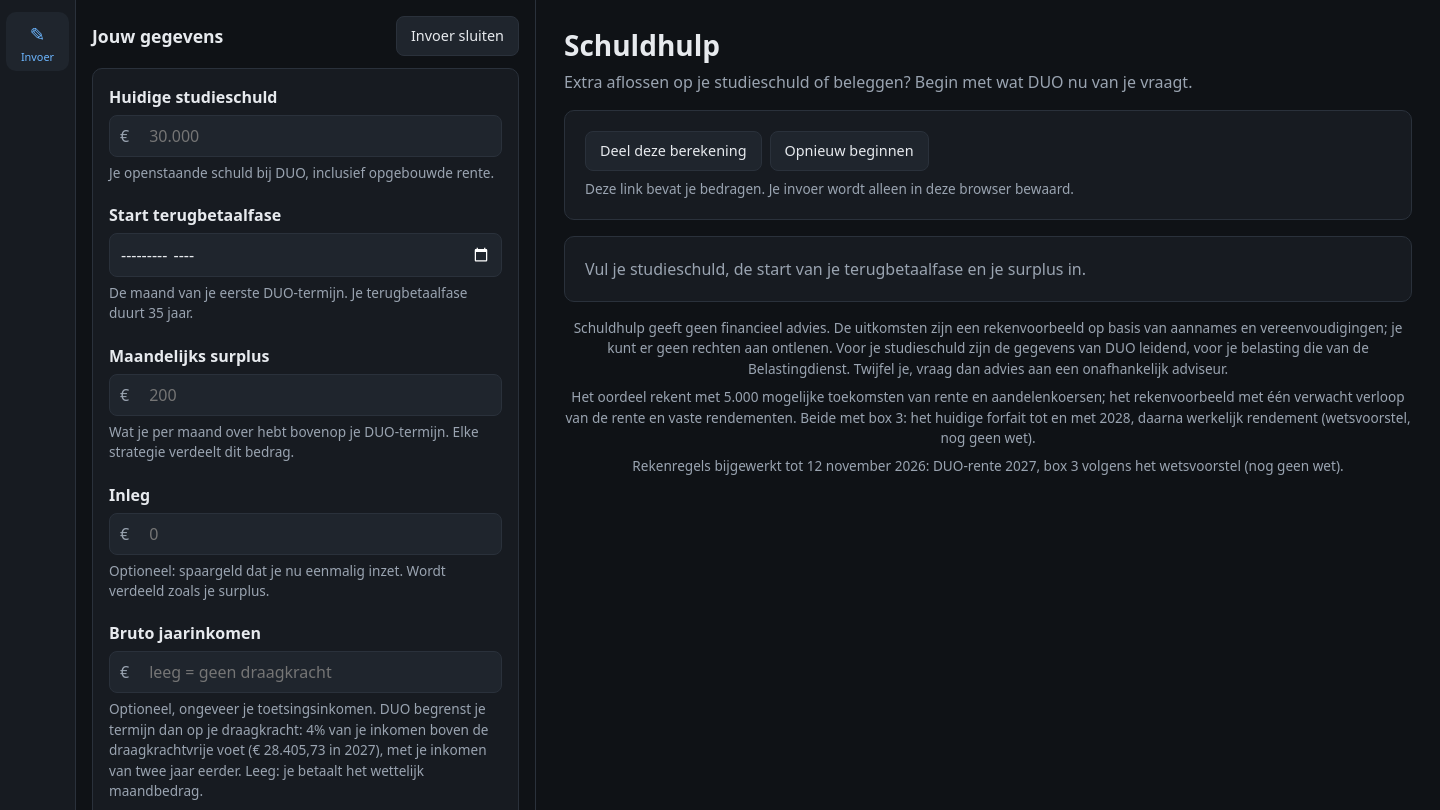
Test: share link (#31) › shows the link to copy by hand when the clipboard is unavailable
Type "500" into the field labelled "Huidige studieschuld" at (320, 136), box 139,116 -> 501,156
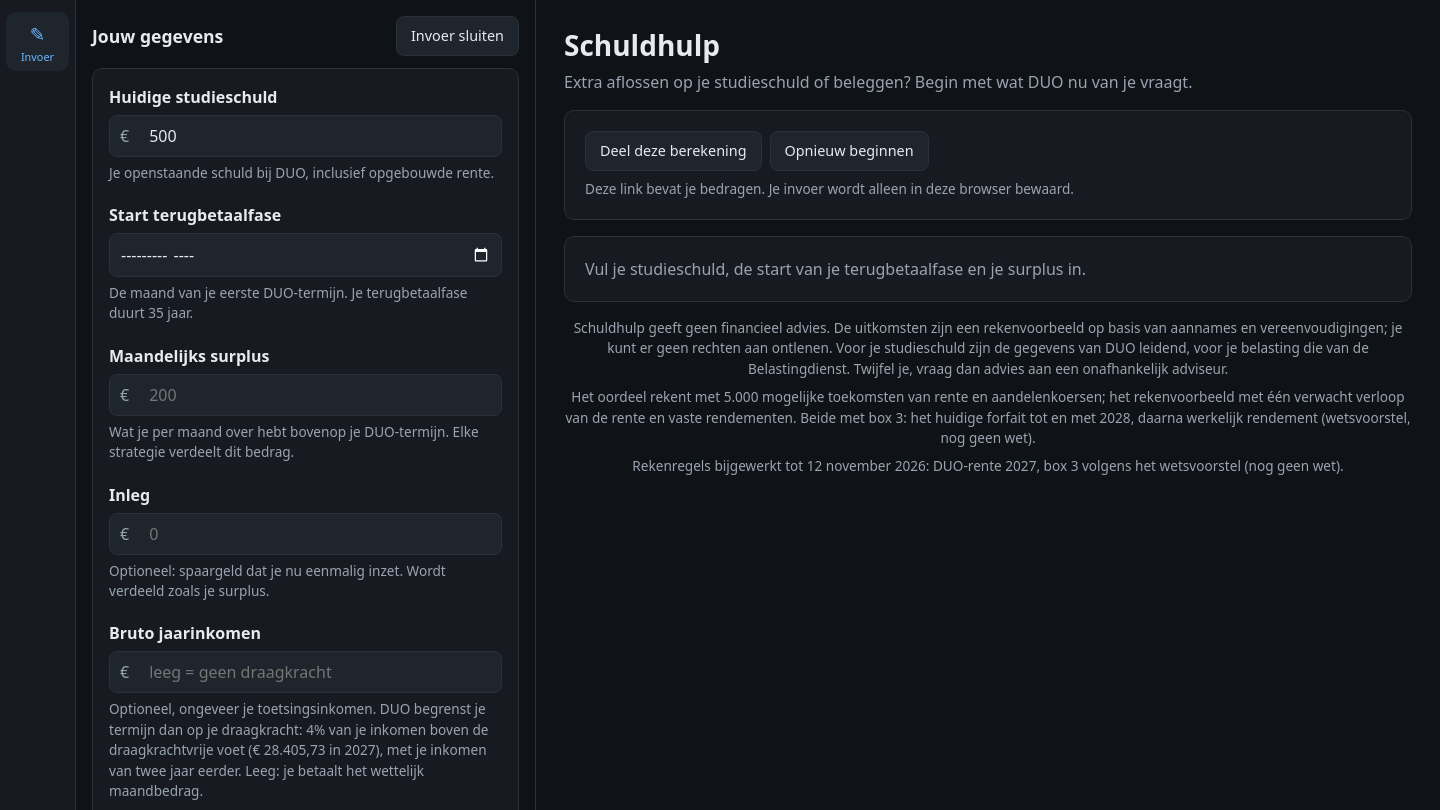
Click the button "Deel deze berekening" at (673, 151), box 585,131 -> 762,171
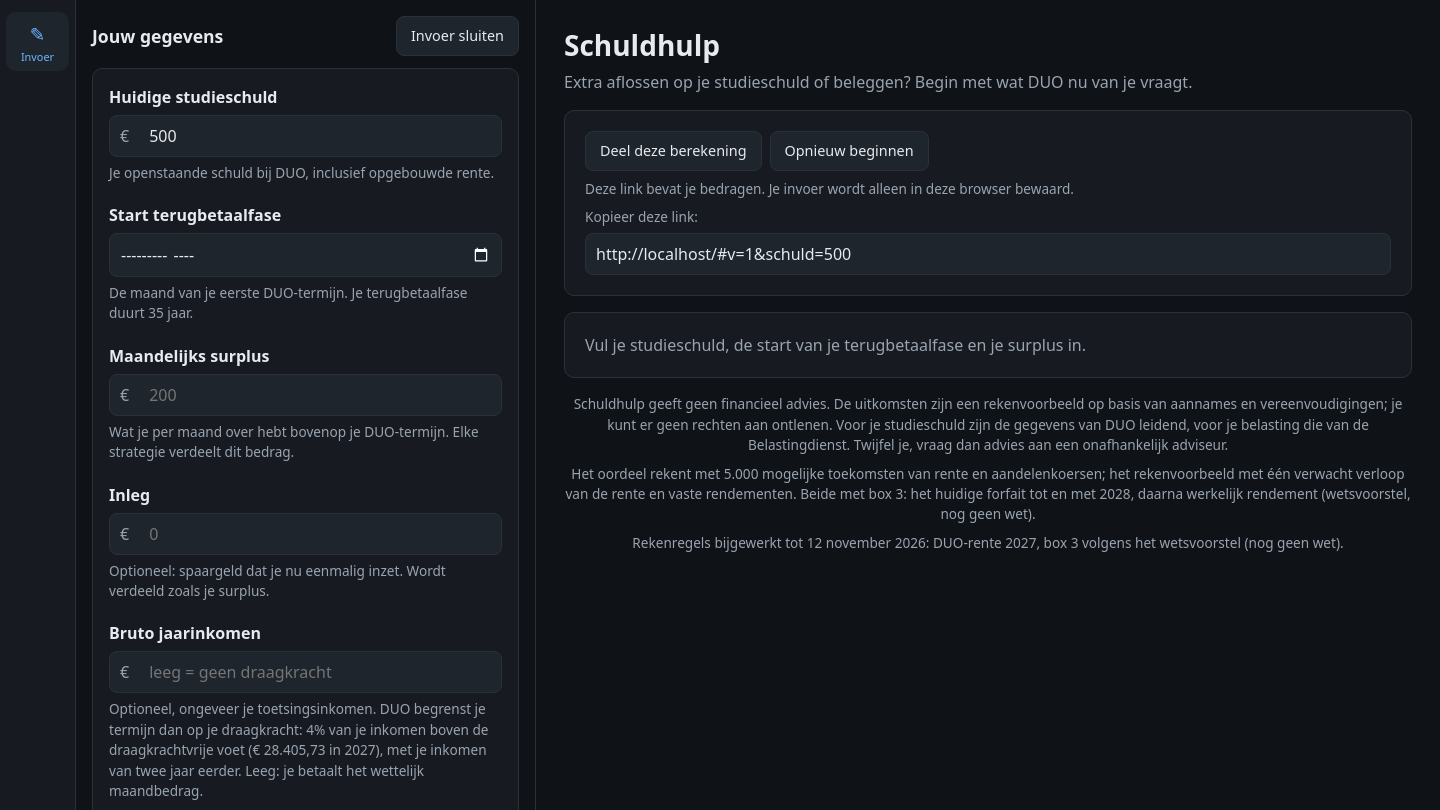
Check: the text "Kopieer deze link:" is shown, box 585,207 -> 698,226
